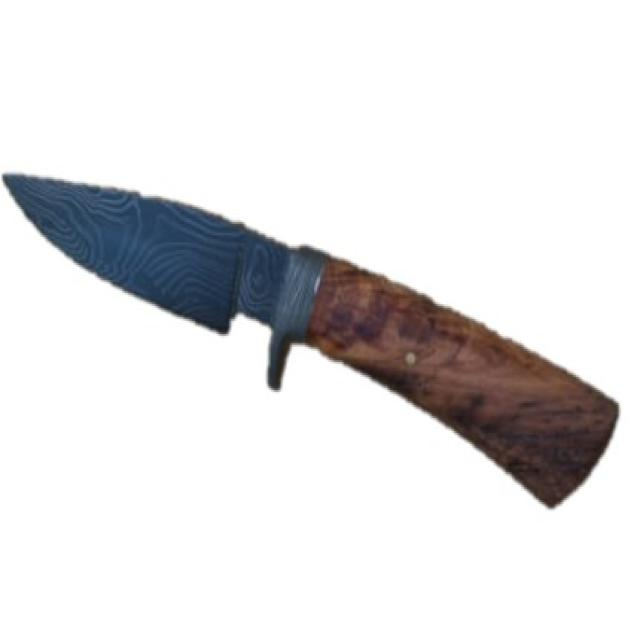knife: (1, 149, 632, 547)
